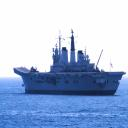Portanaves: (14, 29, 127, 97)
